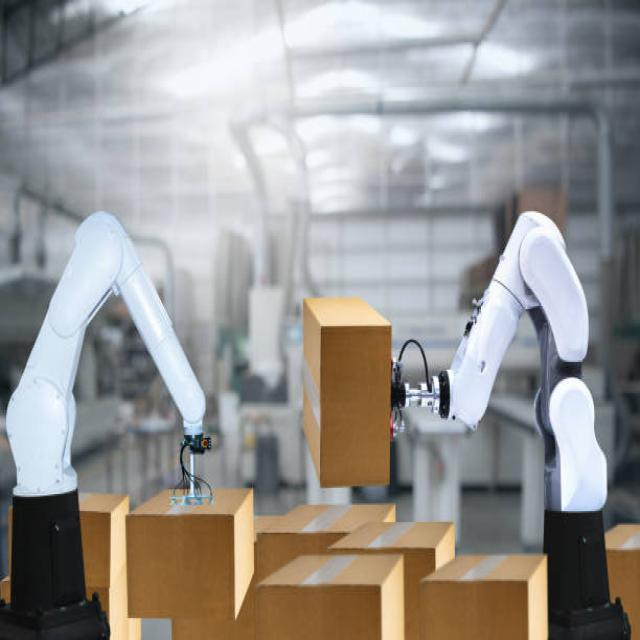Robotic-arm: (387, 200, 622, 640), (0, 191, 219, 640)
